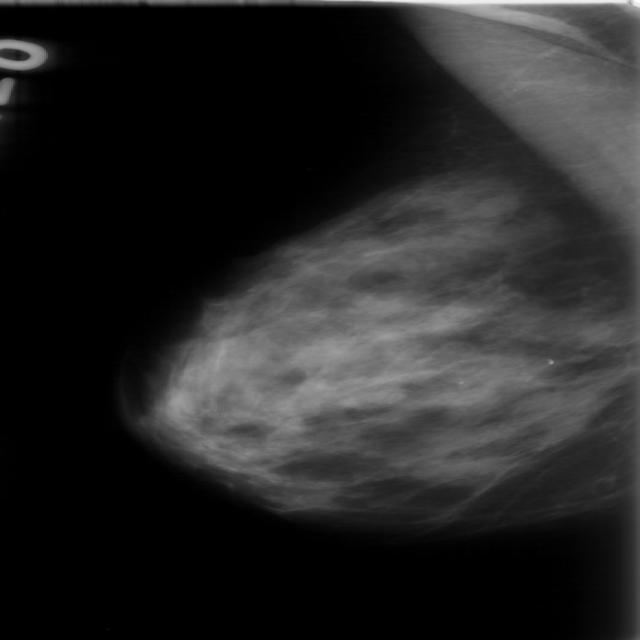tumour: (328, 377, 404, 408)
